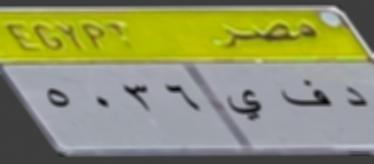0: (92, 87, 114, 119)
3: (121, 78, 154, 112)
5: (42, 83, 78, 110)
6: (160, 78, 202, 116)
daal: (342, 73, 372, 118)
faa: (278, 76, 334, 111)
yaa: (224, 80, 266, 124)
